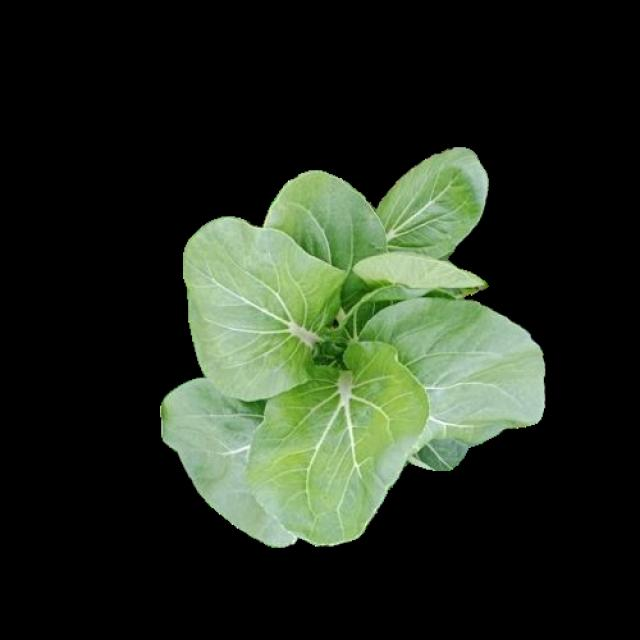healthy: (160, 146, 543, 545)
not-mature: (163, 148, 545, 548)
